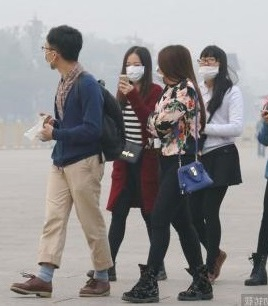person: (9, 22, 112, 300), (121, 43, 218, 303), (86, 45, 168, 282), (189, 44, 243, 280), (243, 101, 268, 285)
